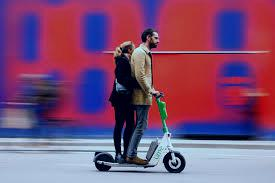multiple: (90, 27, 189, 174)
